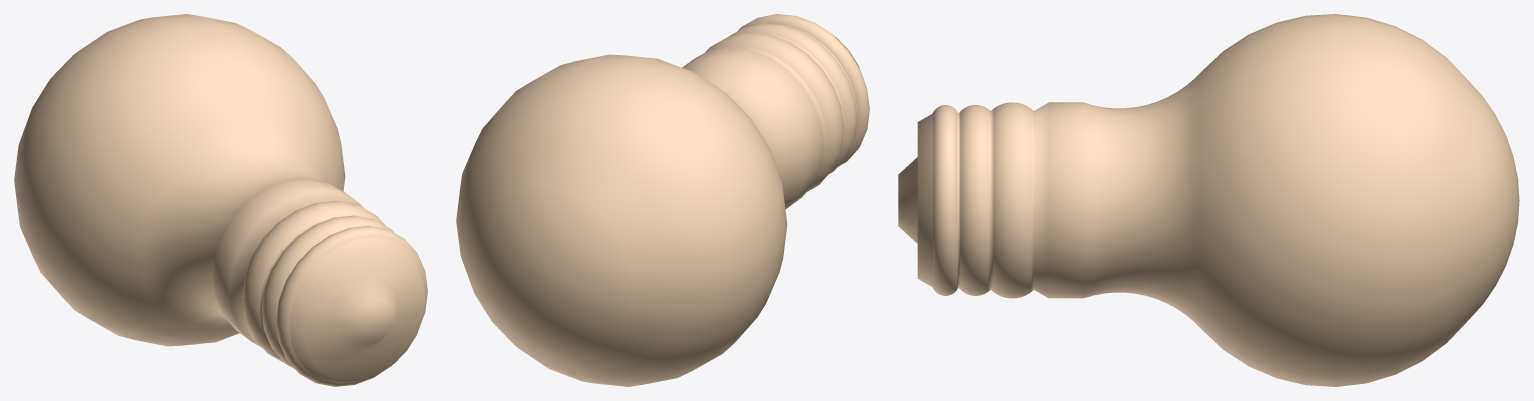
File: lightbulb1_2.dae
The picture shows the model from 3 angles, left to right: view 1: azimuth 30°, elevation 25°; view 2: azimuth 150°, elevation 25°; view 3: azimuth 270°, elevation 25°; orthographic projection. The views are drawn at different scales.
Visible parts, largest first — view 1: lightbulb1_019; view 2: lightbulb1_019; view 3: lightbulb1_019.
Part boxes in pixels (x1,y1,x2,y2): lightbulb1_019: [14, 14, 427, 386]; lightbulb1_019: [456, 14, 869, 386]; lightbulb1_019: [898, 14, 1519, 386].
Size of the model in its own units: 0.1122 by 0.1862 by 0.1122.
